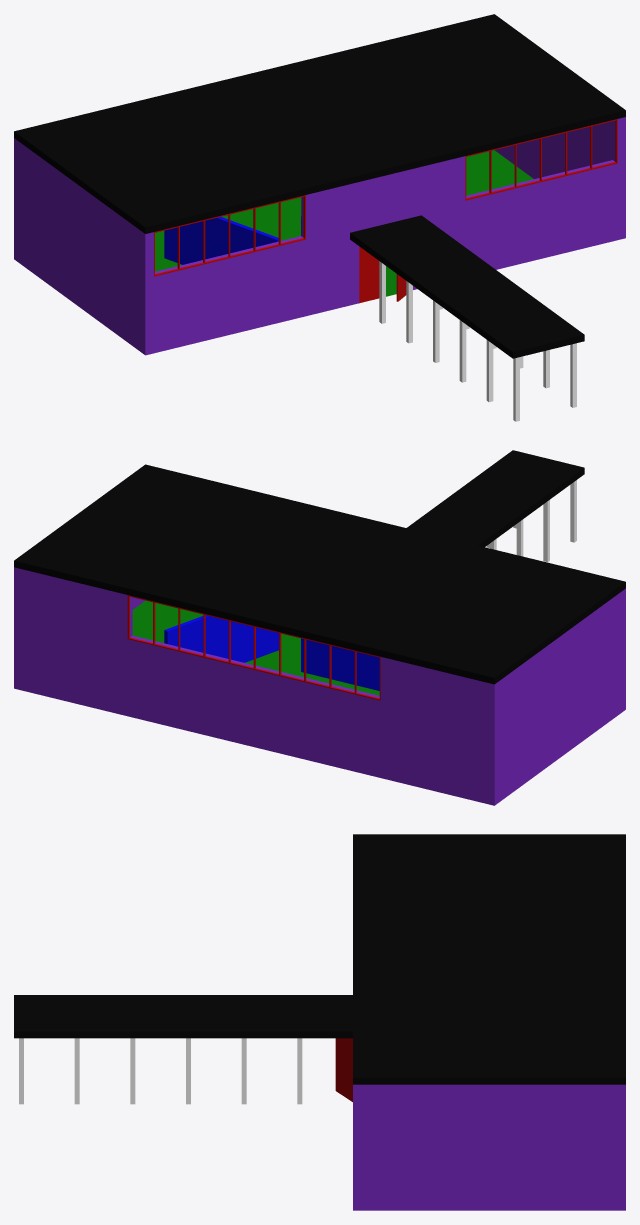
File: gallery.obj
3 renders of one model, top to bottom at view 1: azimuth 30°, elevation 25°; view 2: azimuth 150°, elevation 25°; view 3: azimuth 270°, elevation 25°, orthographic. The views are drawn at different scales.
Visible parts, largest first — view 1: ceiling main house, outside walls, ceiling - pillars, inside floor, pillars, inside walls, window, doors; view 2: ceiling main house, outside walls, ceiling - pillars, inside walls, inside floor, window, pillars; view 3: ceiling main house, outside walls, ceiling - pillars, pillars, doors.
Part boxes in pixels (x1,y1,x2,y2): ceiling main house: (14,14,625,233); outside walls: (14,117,625,355); ceiling - pillars: (350,215,584,358); inside floor: (155,150,533,296); pillars: (379,261,576,421); inside walls: (164,216,301,264); window: (154,119,617,276); doors: (359,246,406,303); ceiling main house: (14,464,625,684); outside walls: (14,567,625,805); ceiling - pillars: (406,450,584,547); inside walls: (164,615,379,690); inside floor: (132,600,379,695); window: (127,595,380,700); pillars: (486,480,576,562); ceiling main house: (353,834,625,1084); outside walls: (353,1084,625,1210); ceiling - pillars: (14,995,352,1038); pillars: (19,1038,302,1104); doors: (335,1038,352,1101).
Size of the model in its own units: 2280 by 580 by 2420.
